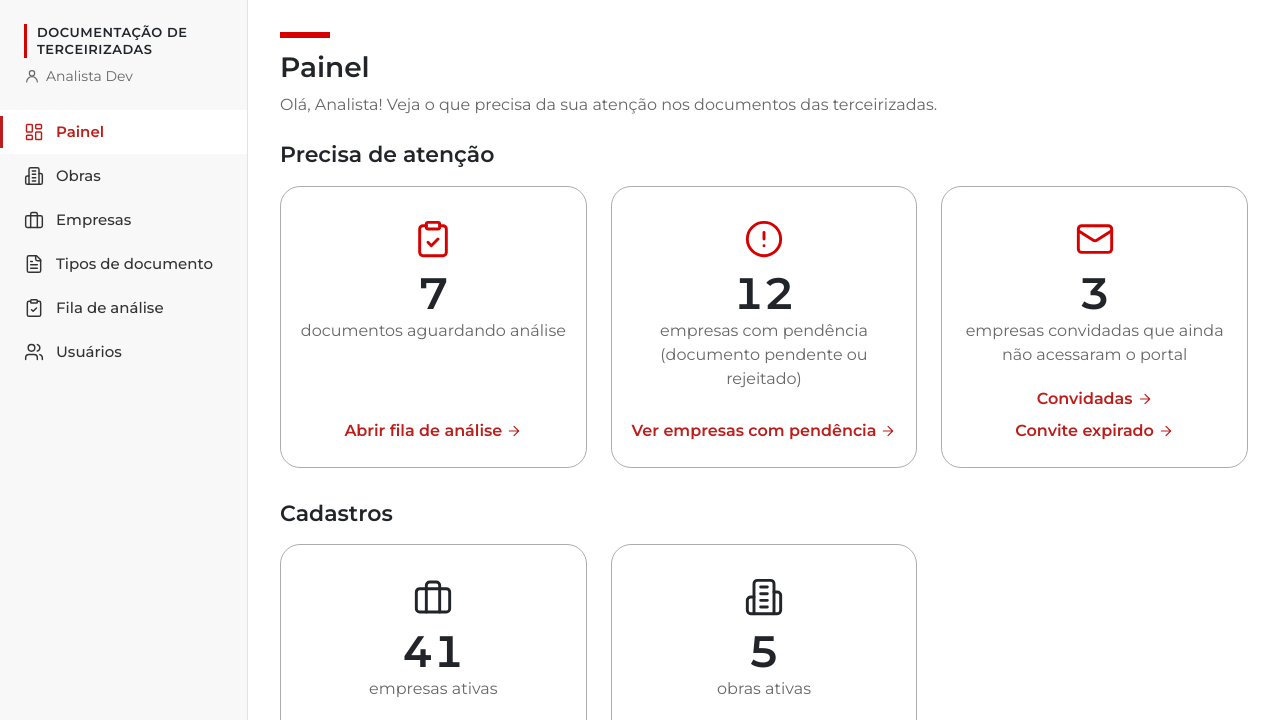
Test case: Painel › o card de convidadas leva à lista filtrada por situação de acesso
The width and height of the screenshot is (1280, 720).
Click the link "Convidadas" at point(1095, 399), box top-left (1037, 387), bottom-right (1152, 411)
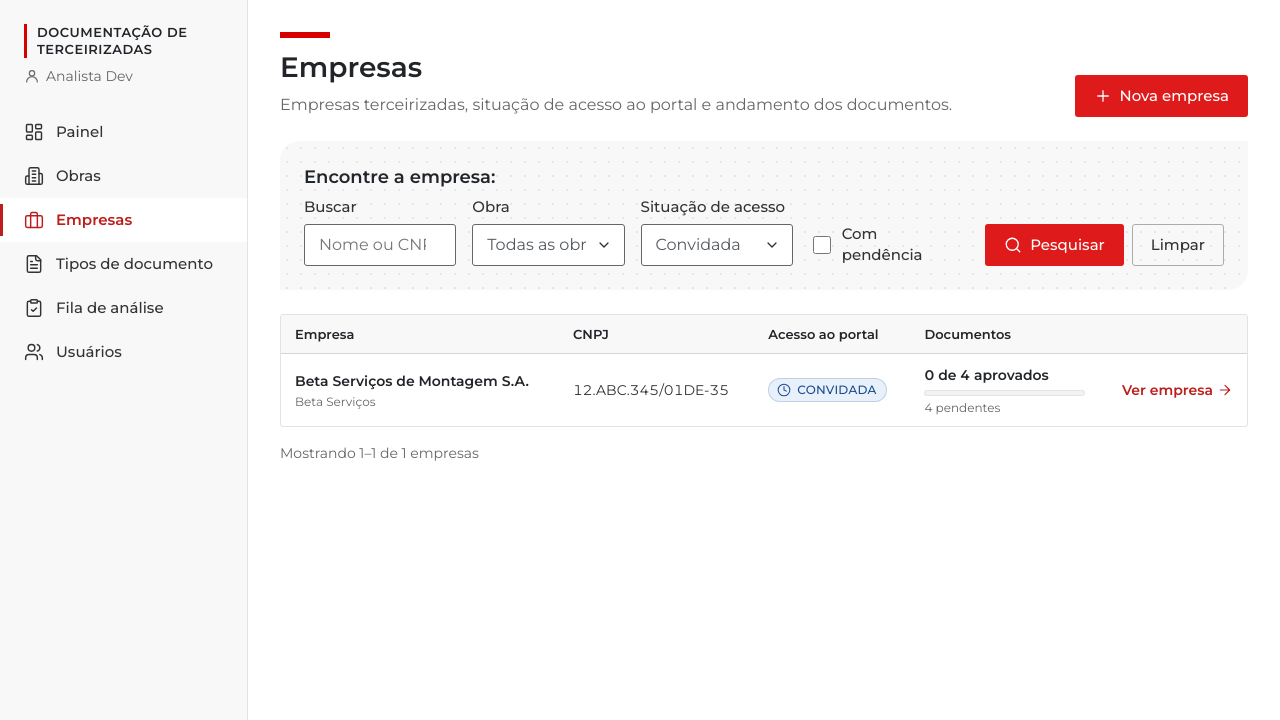
Check: the link "Beta Serviços de Montagem S.A." is shown, box top-left (295, 372), bottom-right (529, 390)
